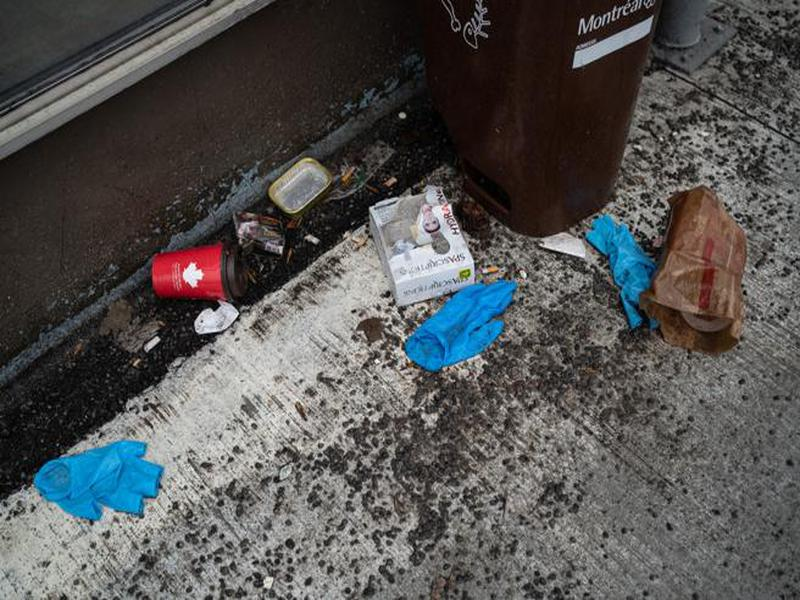cardboard: (359, 184, 479, 308)
cup: (147, 242, 247, 311)
gloves: (27, 436, 167, 526), (398, 280, 524, 371), (583, 210, 657, 331)
paper: (648, 184, 762, 354)
